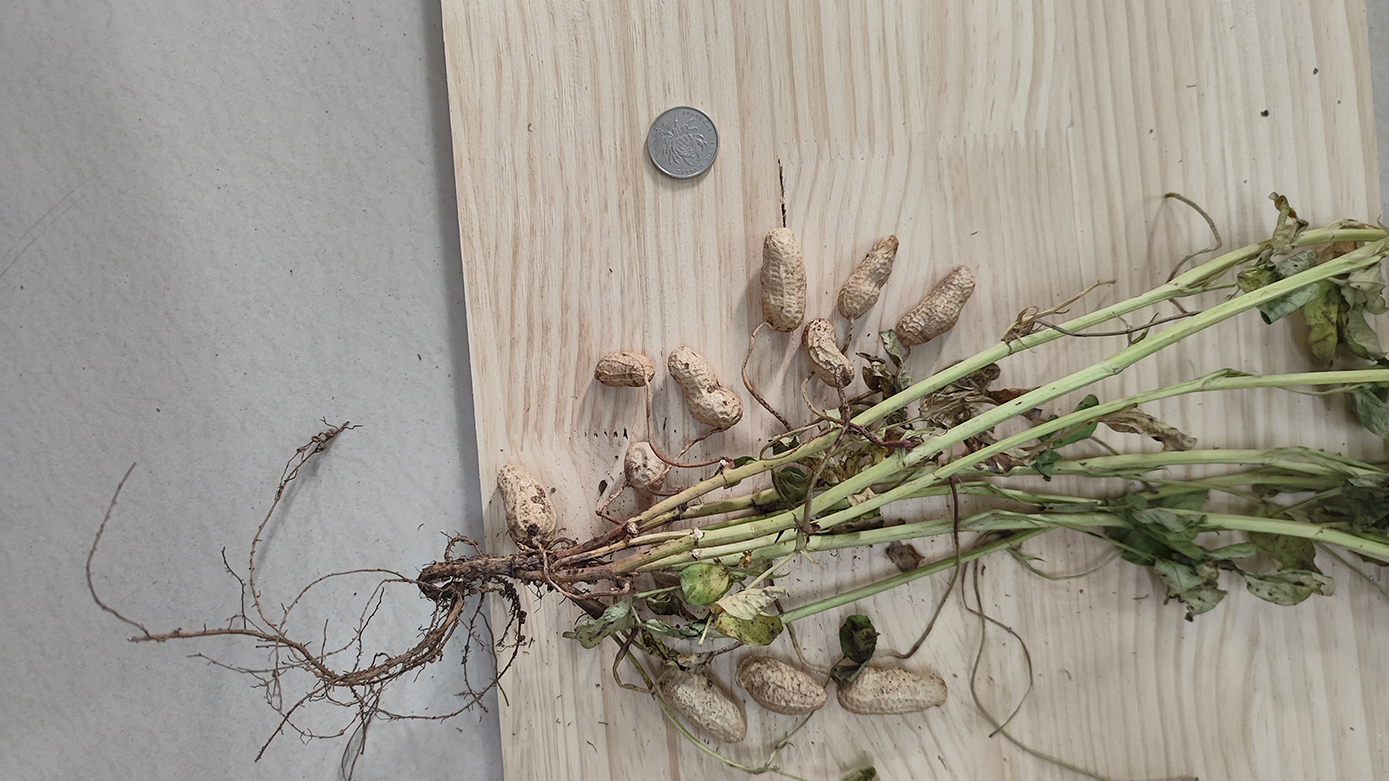h: (895, 264, 975, 346), (667, 344, 744, 428), (668, 672, 746, 742), (837, 667, 949, 715), (736, 654, 825, 713), (836, 235, 899, 318), (495, 464, 556, 543), (761, 228, 808, 329), (803, 318, 856, 389), (595, 350, 655, 387), (625, 442, 665, 490)
